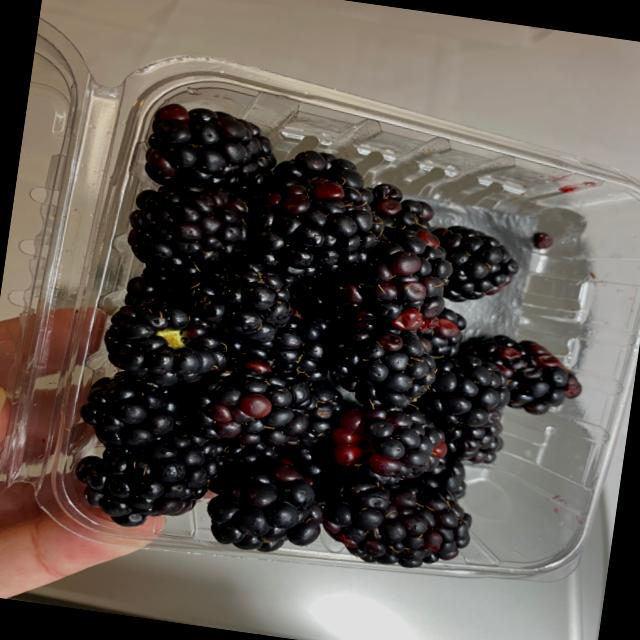blackberries: (78, 96, 600, 588)
